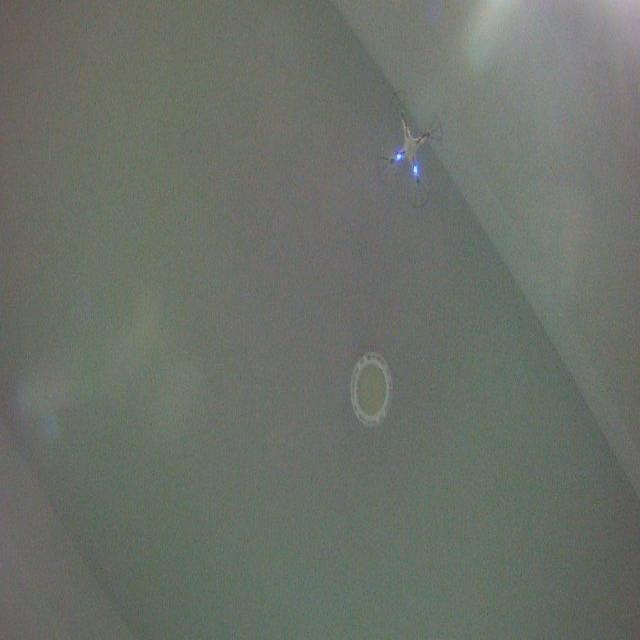drone: (374, 86, 446, 212)
